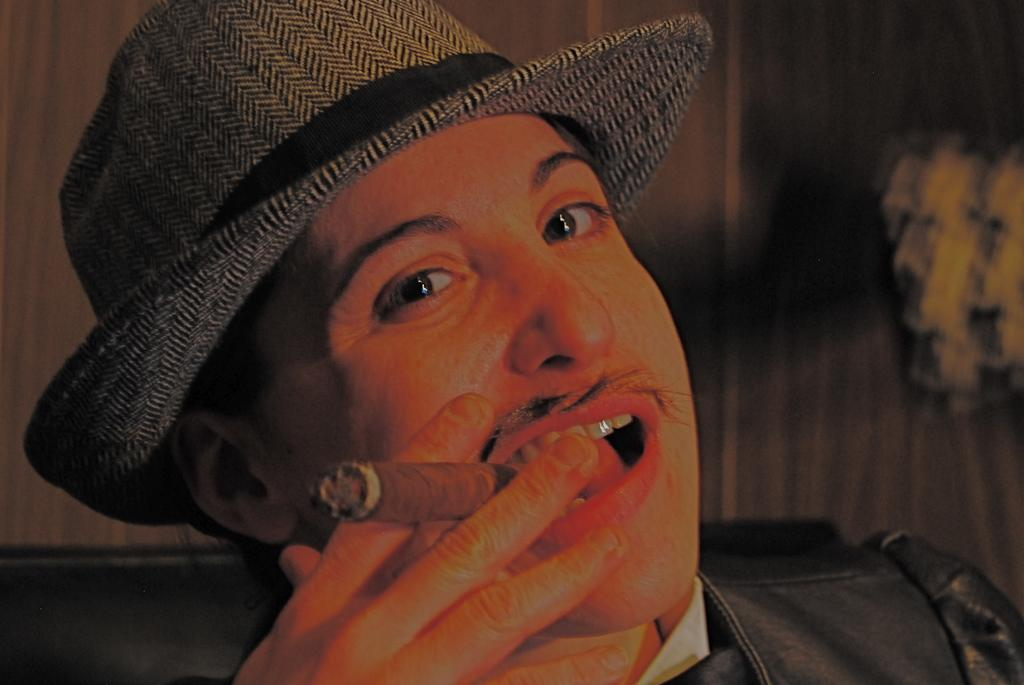Hat: (20, 0, 714, 530)
